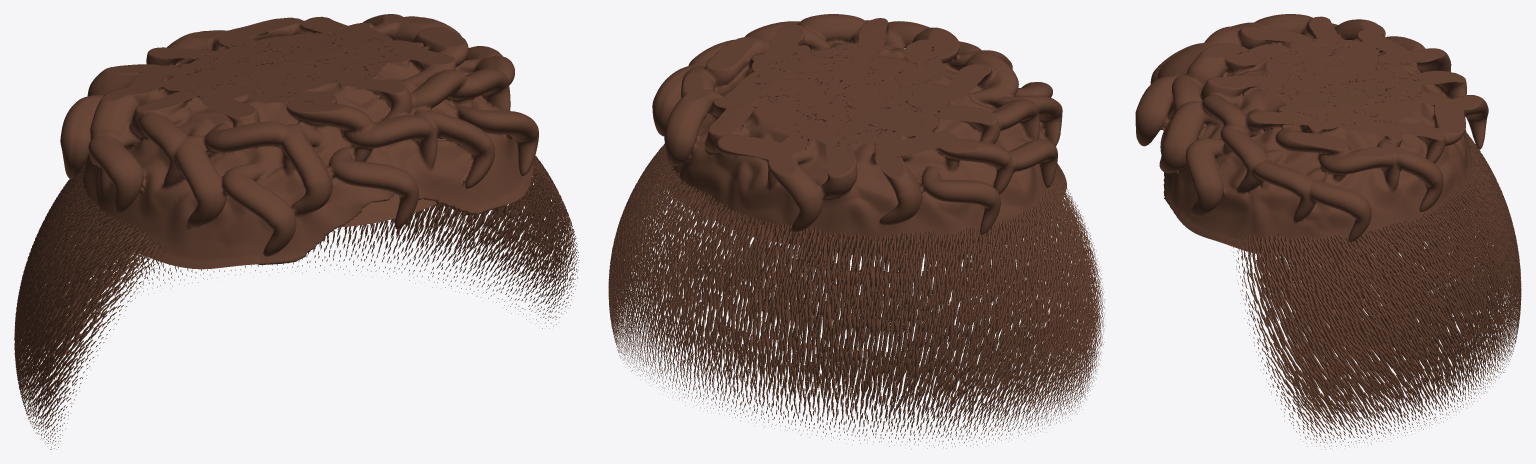
File: Masculine-curly-top-bucket254-hair.glb
3 renders of one model, left to right at view 1: azimuth 30°, elevation 25°; view 2: azimuth 150°, elevation 25°; view 3: azimuth 270°, elevation 25°, orthographic. The views are drawn at different scales.
Parts seen in each view (by area): view 1: 226 hair / Hair252 / sculpted curl groups, 226 hair / Hair254 / rooted short groom; view 2: 226 hair / Hair254 / rooted short groom, 226 hair / Hair252 / sculpted curl groups; view 3: 226 hair / Hair252 / sculpted curl groups, 226 hair / Hair254 / rooted short groom.
Part boxes in pixels (<box>): 226 hair / Hair252 / sculpted curl groups: <box>60,14,538,269</box>; 226 hair / Hair254 / rooted short groom: <box>14,155,579,449</box>; 226 hair / Hair254 / rooted short groom: <box>608,143,1105,449</box>; 226 hair / Hair252 / sculpted curl groups: <box>652,14,1066,255</box>; 226 hair / Hair252 / sculpted curl groups: <box>1135,14,1488,255</box>; 226 hair / Hair254 / rooted short groom: <box>1160,131,1521,449</box>.
Size of the model in its own units: 0.9716 by 0.6113 by 0.7501.
